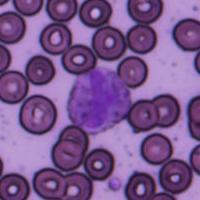E: (68, 66, 130, 134)
